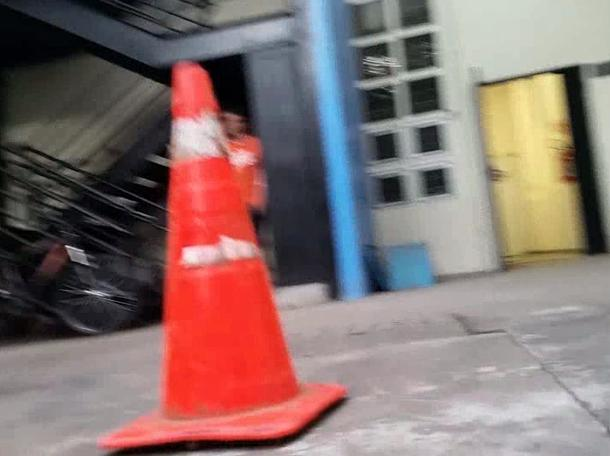0 cone: (100, 64, 345, 449)
